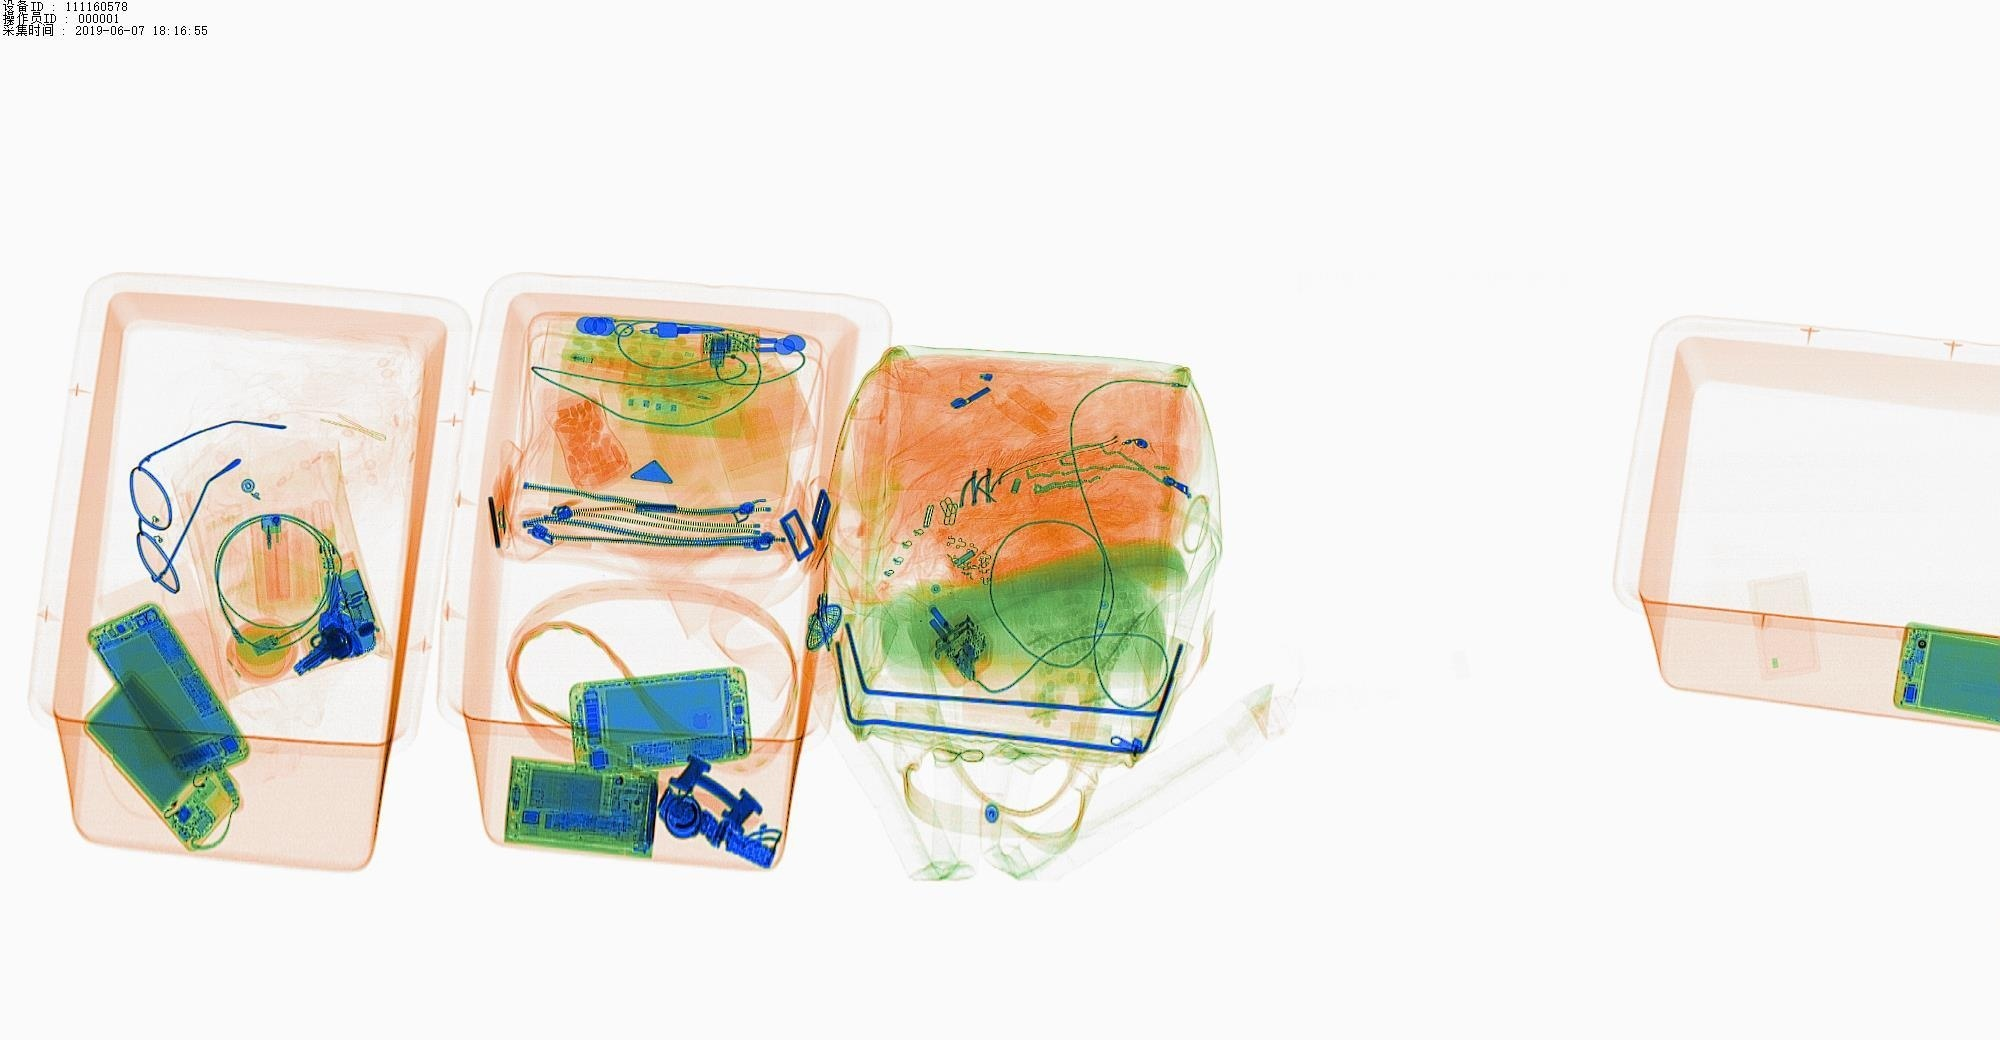NonmetallicFire: (239, 496, 313, 617)
